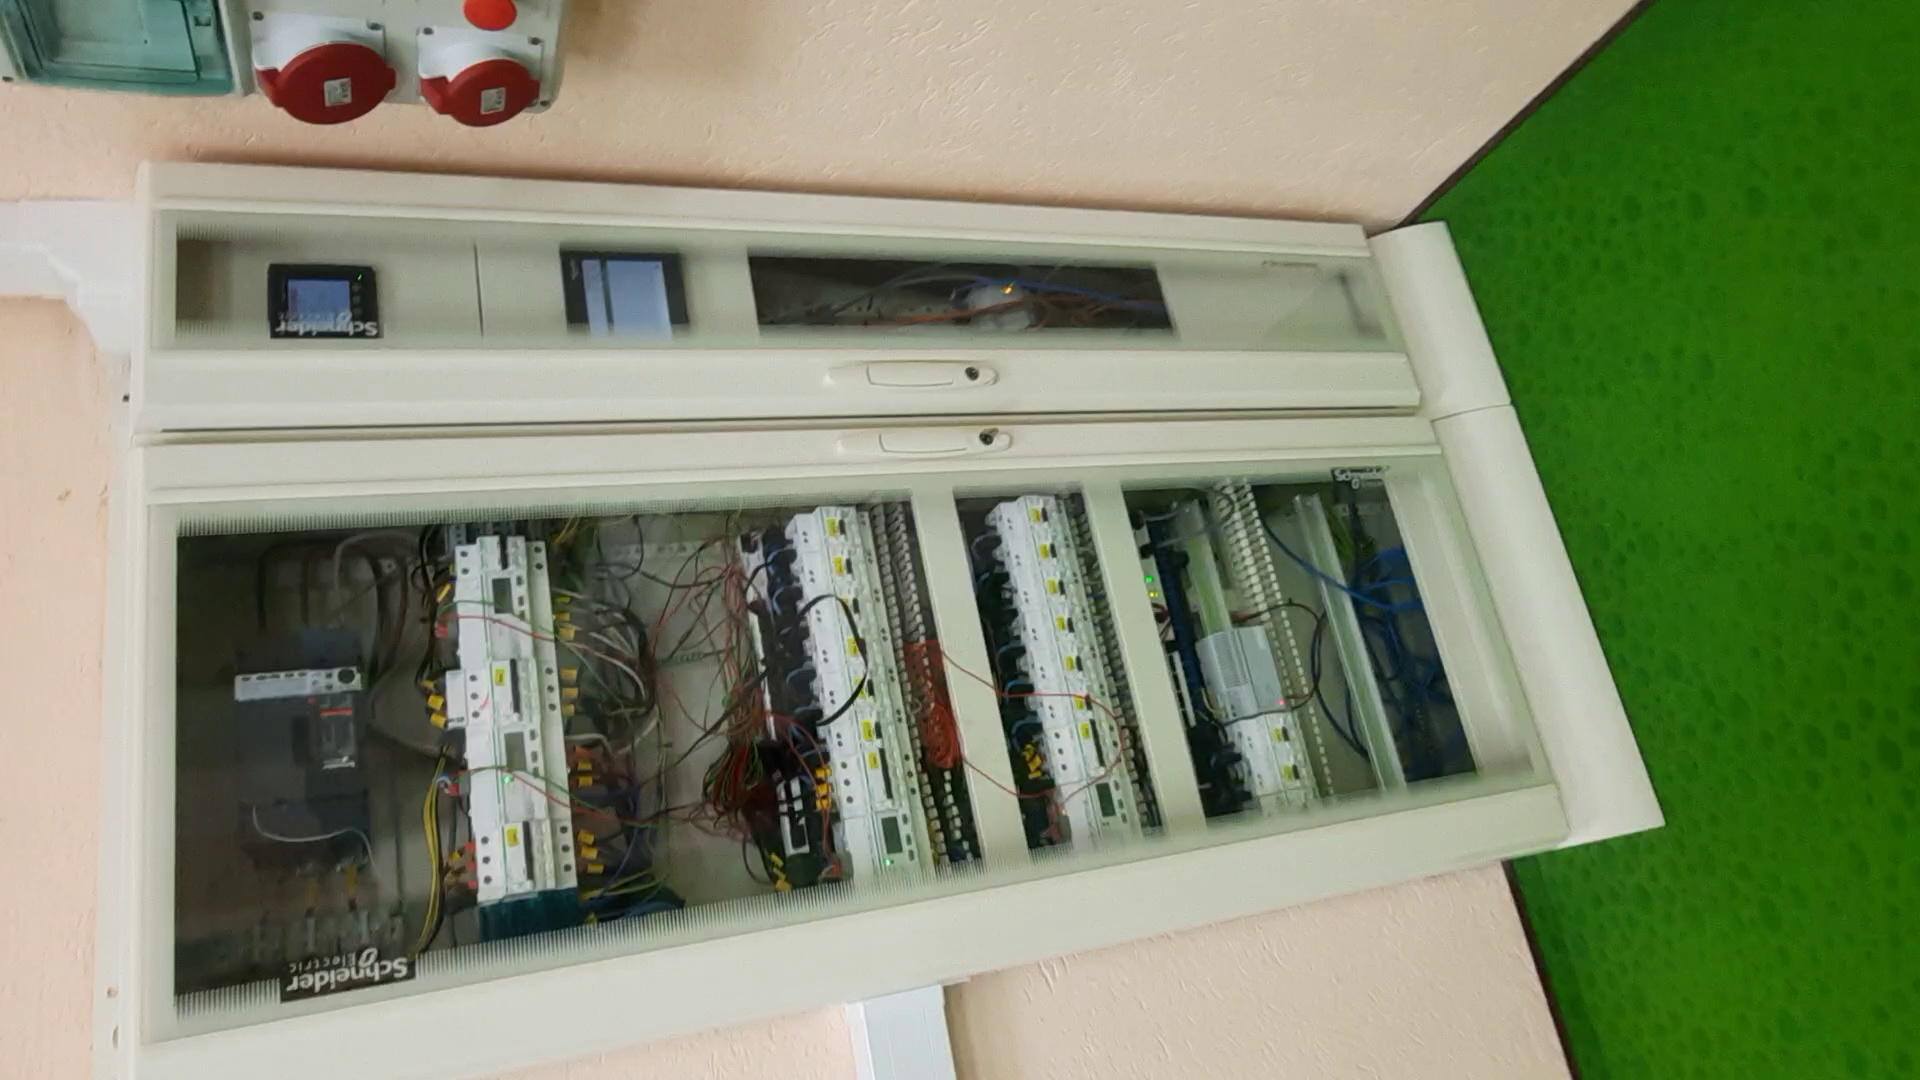stand1: (113, 141, 1662, 1080)
